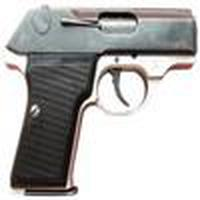gun: (3, 2, 192, 199)
